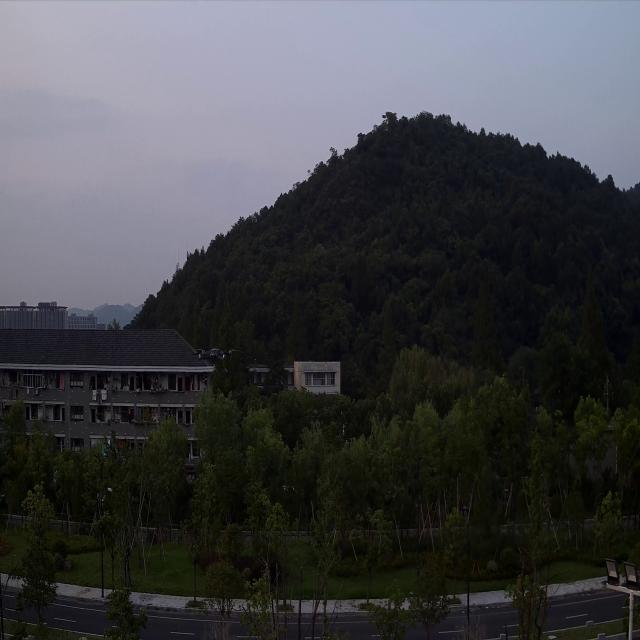UAV: (192, 340, 243, 369)
